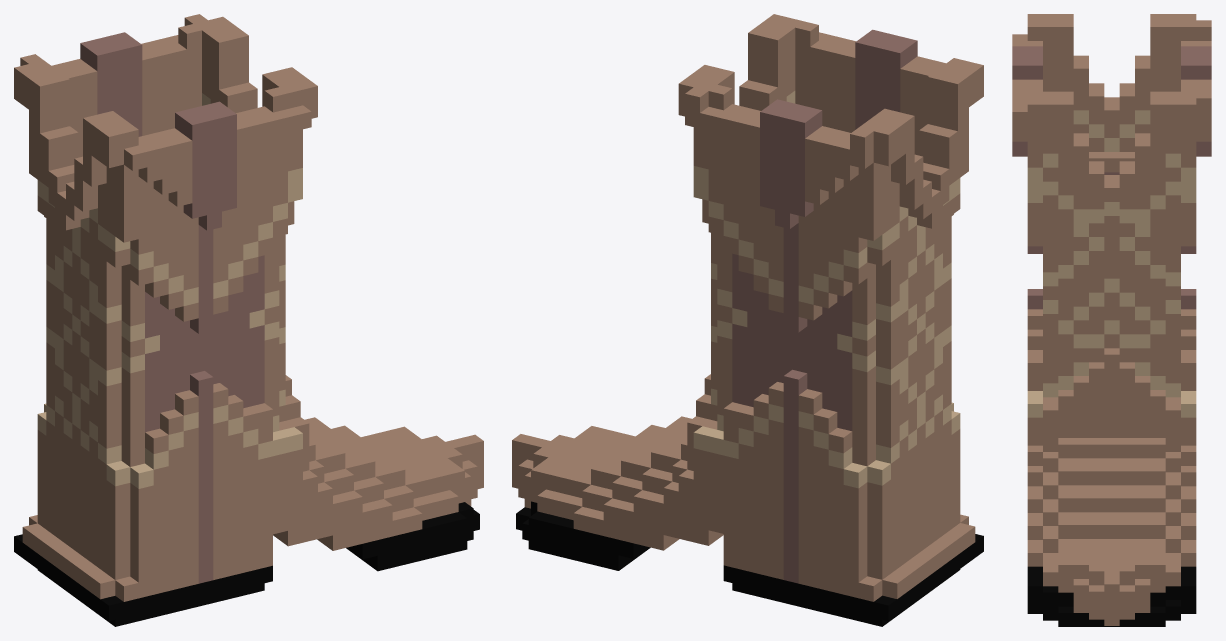
3 views of the same model, side by side, from view 1: azimuth 30°, elevation 25°; view 2: azimuth 150°, elevation 25°; view 3: azimuth 270°, elevation 25° (orthographic). The views are drawn at different scales.
Size of the model in its own units: 1.4 by 1.6 by 0.65.
